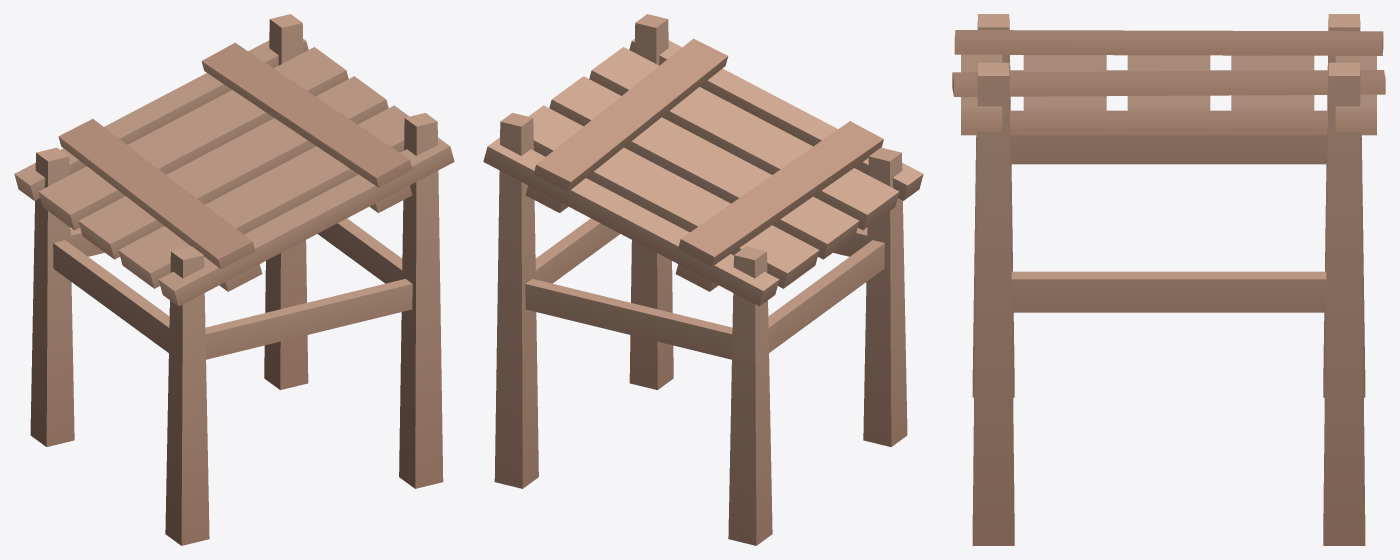
The model's file is structure-roof.glb.
The picture shows the model from 3 angles, left to right: view 1: azimuth 30°, elevation 25°; view 2: azimuth 150°, elevation 25°; view 3: azimuth 270°, elevation 25°; orthographic projection. The views are drawn at different scales.
Visible parts, largest first — view 1: Group, structure-roof; view 2: Group, structure-roof; view 3: structure-roof, Group.
Part boxes in pixels (x1,y1,x2,y2): Group: (14,39,454,306); structure-roof: (30,14,443,545); Group: (483,38,923,306); structure-roof: (494,14,907,545); structure-roof: (972,14,1365,545); Group: (952,30,1385,135).
Bounding box in the file's own units: 0.5355 × 0.6572 × 0.5519.
